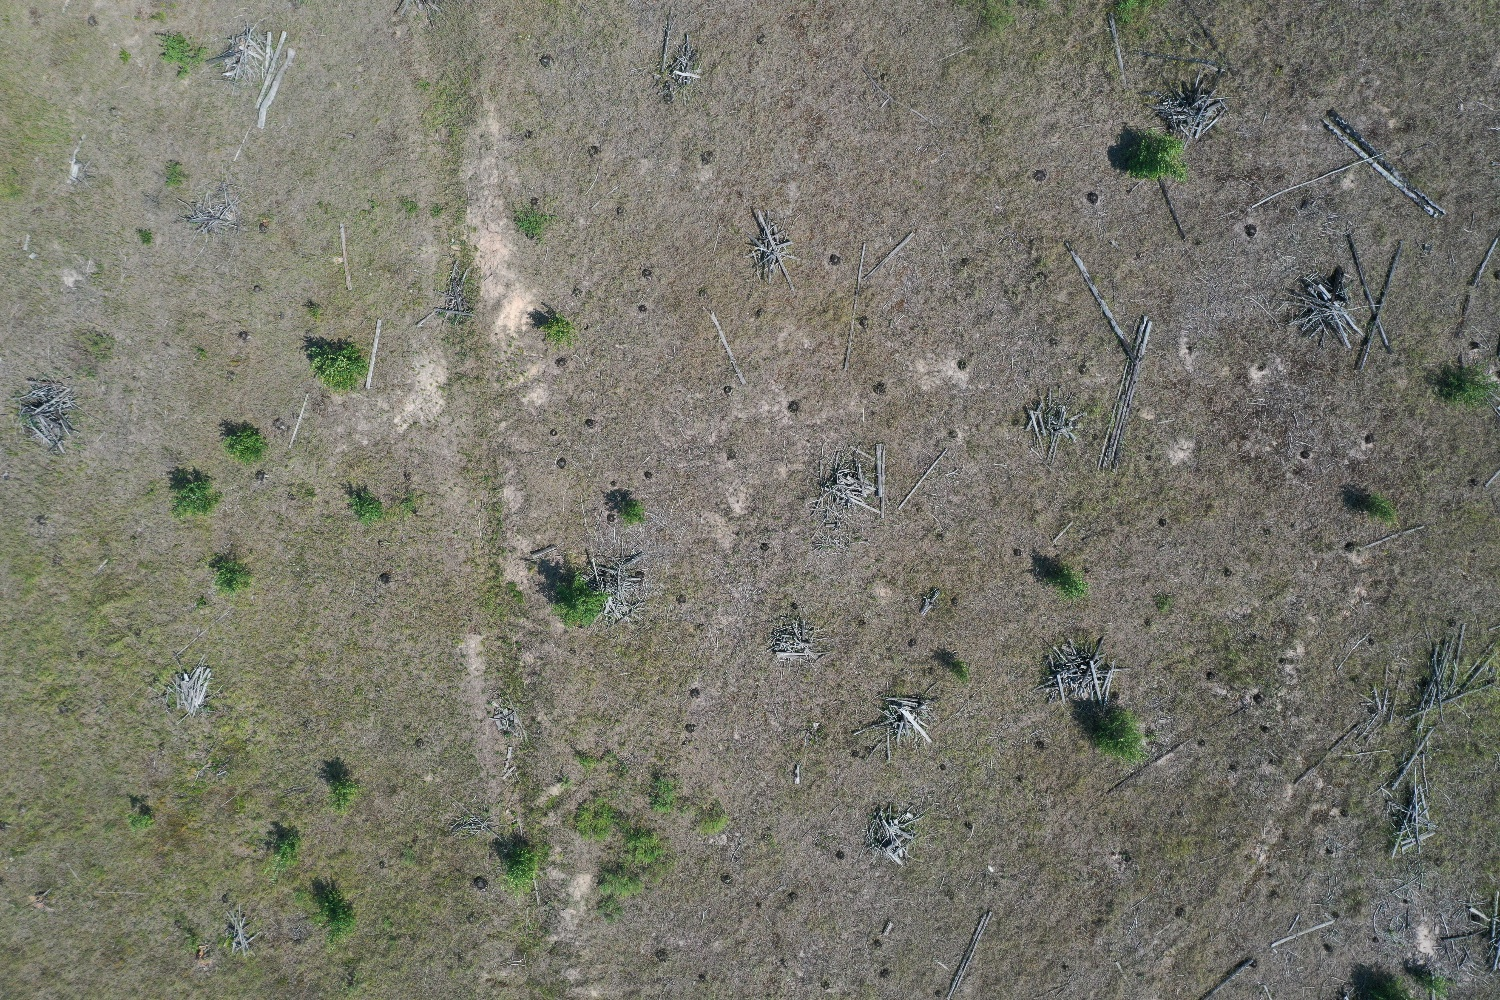branches: (1289, 265, 1366, 350), (1033, 635, 1129, 702), (1144, 66, 1231, 136), (847, 698, 941, 762), (10, 377, 81, 454), (1025, 384, 1087, 467), (584, 548, 646, 618), (749, 209, 800, 294), (860, 802, 925, 868), (206, 21, 272, 84), (1384, 783, 1437, 859), (166, 656, 217, 724), (176, 185, 247, 232), (819, 448, 876, 501), (434, 260, 475, 325), (770, 615, 826, 661), (221, 903, 261, 956), (670, 33, 701, 88), (448, 817, 497, 837), (491, 701, 518, 733)
